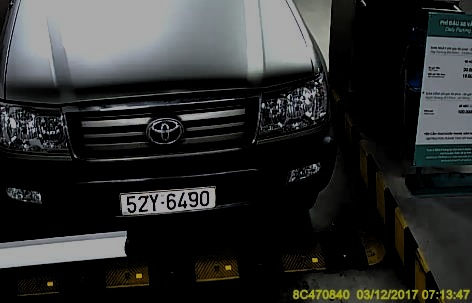plate: (118, 185, 216, 218)
